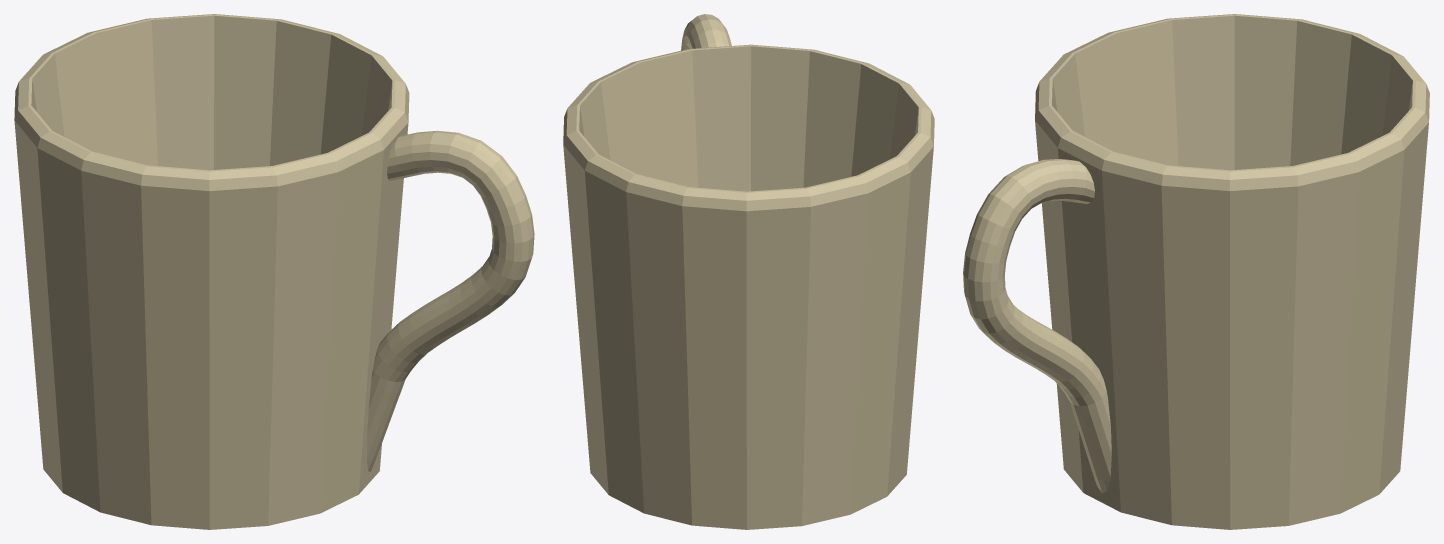
File: Mug.fbx
3 renders of one model, left to right at view 1: azimuth 30°, elevation 25°; view 2: azimuth 150°, elevation 25°; view 3: azimuth 270°, elevation 25°, orthographic. The views are drawn at different scales.
Parts seen in each view (by area): view 1: Tasse; view 2: Tasse; view 3: Tasse.
Part boxes in pixels (box(x1,y1,x2,y2)): Tasse: box(14, 14, 534, 529); Tasse: box(563, 14, 934, 529); Tasse: box(963, 14, 1429, 529).
Bounding box in the file's own units: 17.14 × 16.2 × 18.79.
